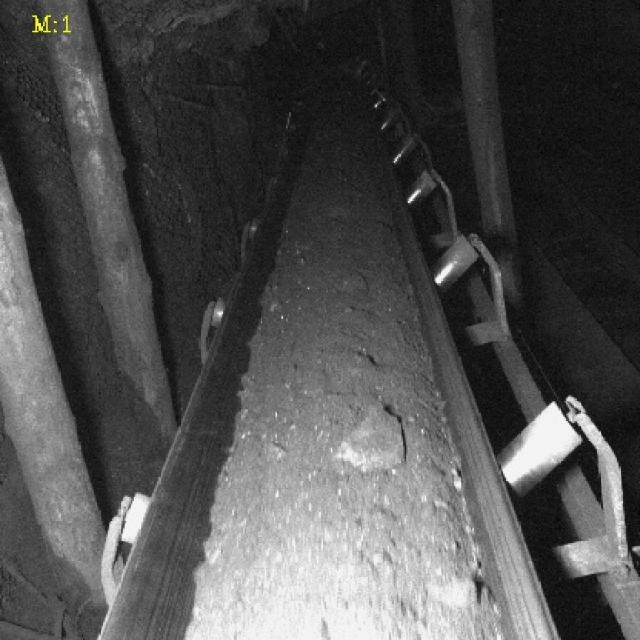large_sized_coal: (335, 406, 411, 469), (421, 577, 477, 608), (337, 270, 366, 296)
